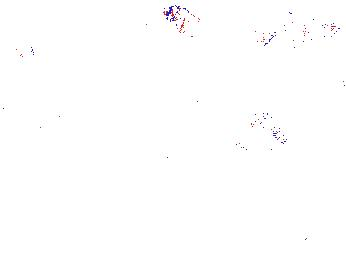X-ray fish: (158, 4, 210, 43), (3, 40, 38, 64)
glassfish: (148, 109, 277, 166)
redtail glassfish: (253, 13, 343, 49), (233, 120, 283, 153)
